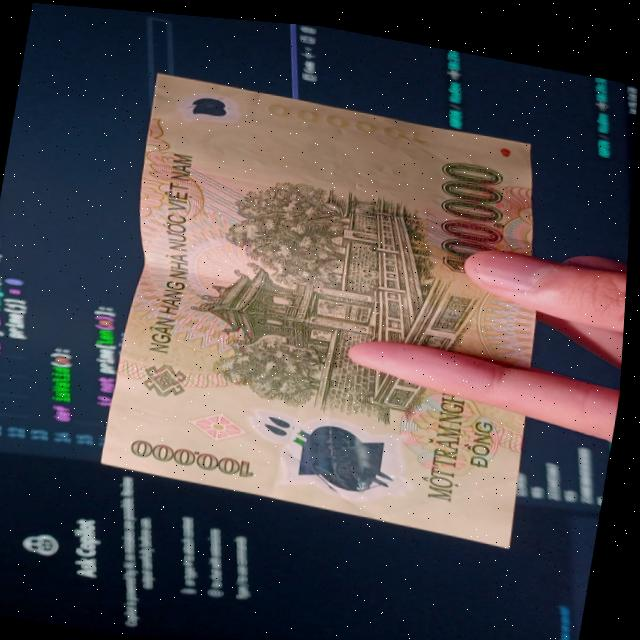100 000 VND: (91, 63, 576, 539)
